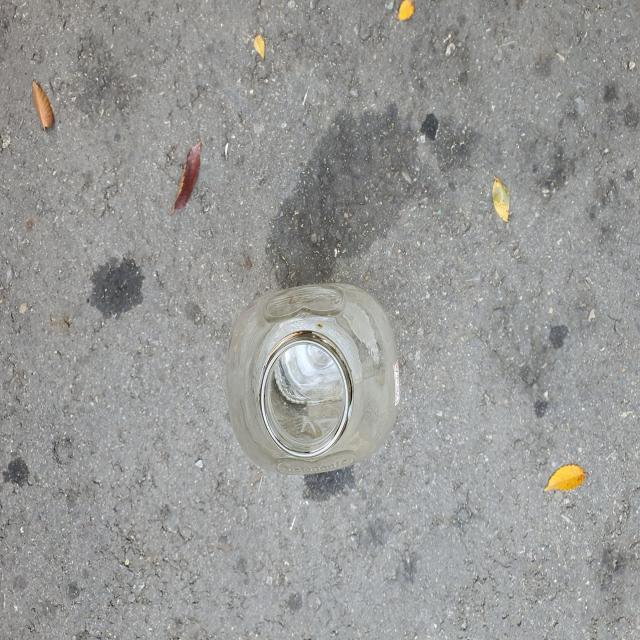glass: (226, 283, 400, 474)
